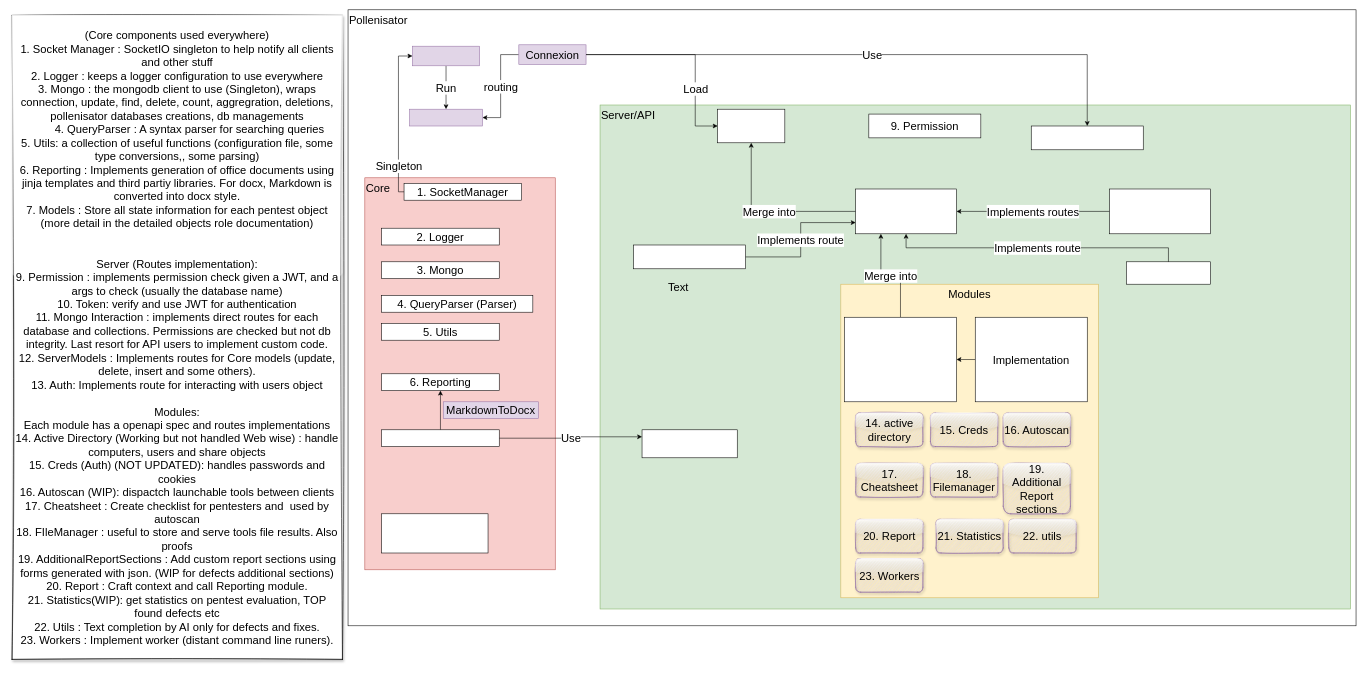
This 1366x673 diagram has some shape labels left out. The centre of each missing label's shape, as x and y in pixels:
10. Token: the point at 1087,137
11. Mongo Interaction: the point at 689,256
12. ServerModels: the point at 1159,211
13. Auth: the point at 1168,272
7. Models: the point at 434,533
app.yaml: the point at 751,126
Excel, Word, Pptx: the point at 440,438
Flask: the point at 445,117
Module_yaml: the point at 900,359
SocketIO: the point at 446,56
Templates Jinja: the point at 689,443
YAML for core Models: the point at 905,211
